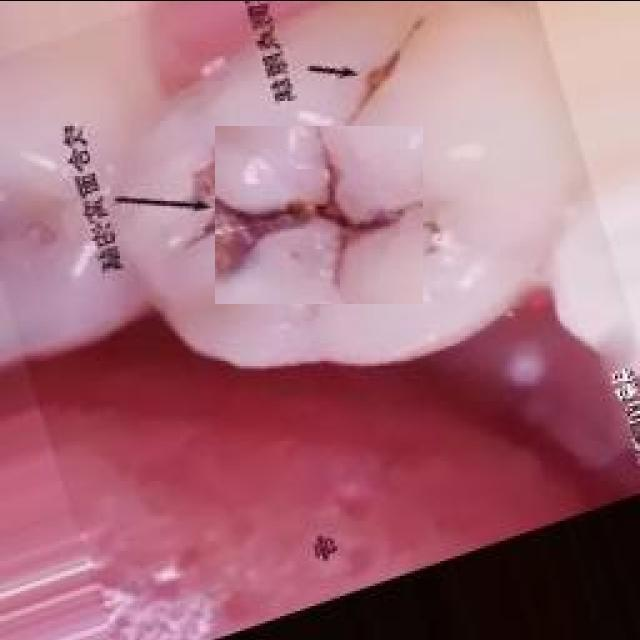caries: (215, 125, 423, 303), (343, 40, 408, 118)
